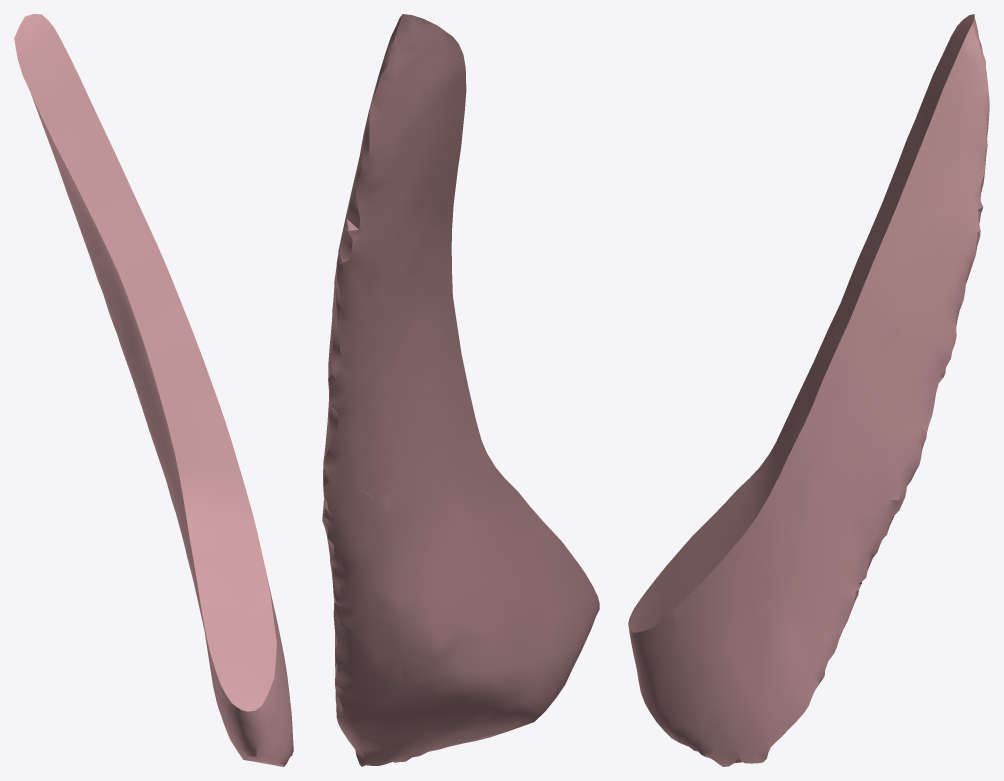
File: fma39376-f_mm1976.glb
3 renders of one model, left to right at view 1: azimuth 30°, elevation 25°; view 2: azimuth 150°, elevation 25°; view 3: azimuth 270°, elevation 25°, orthographic. The views are drawn at different scales.
Visible parts, largest first — view 1: FMA39376-F_MM1976; view 2: FMA39376-F_MM1976; view 3: FMA39376-F_MM1976.
Boxes of the visible parts, x1,y1,x2,y2 form: FMA39376-F_MM1976: (14, 14, 293, 766); FMA39376-F_MM1976: (322, 14, 599, 766); FMA39376-F_MM1976: (628, 14, 989, 766).
Bounding box in the file's own units: 0.00751 × 0.0286 × 0.0137.
